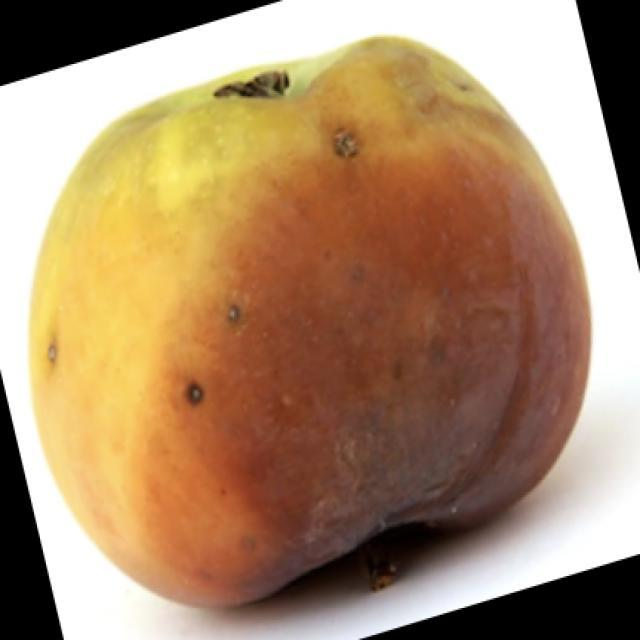Rotten: (48, 39, 595, 588)
